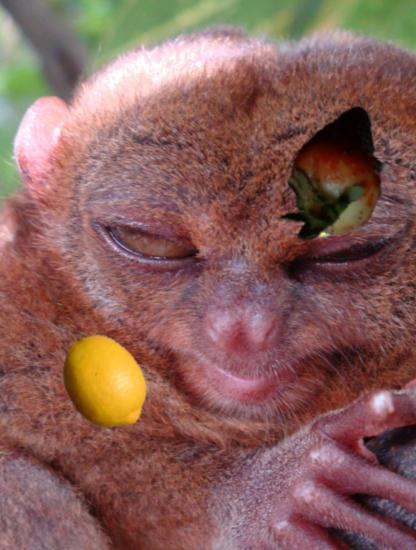Lemon: (54, 333, 156, 435)
Strawberry: (267, 110, 394, 237)
